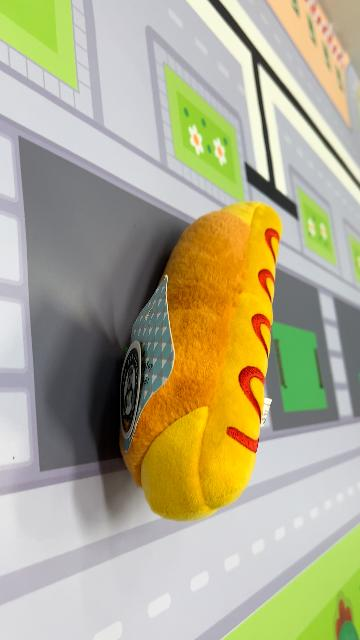hotdog: (118, 199, 284, 523)
